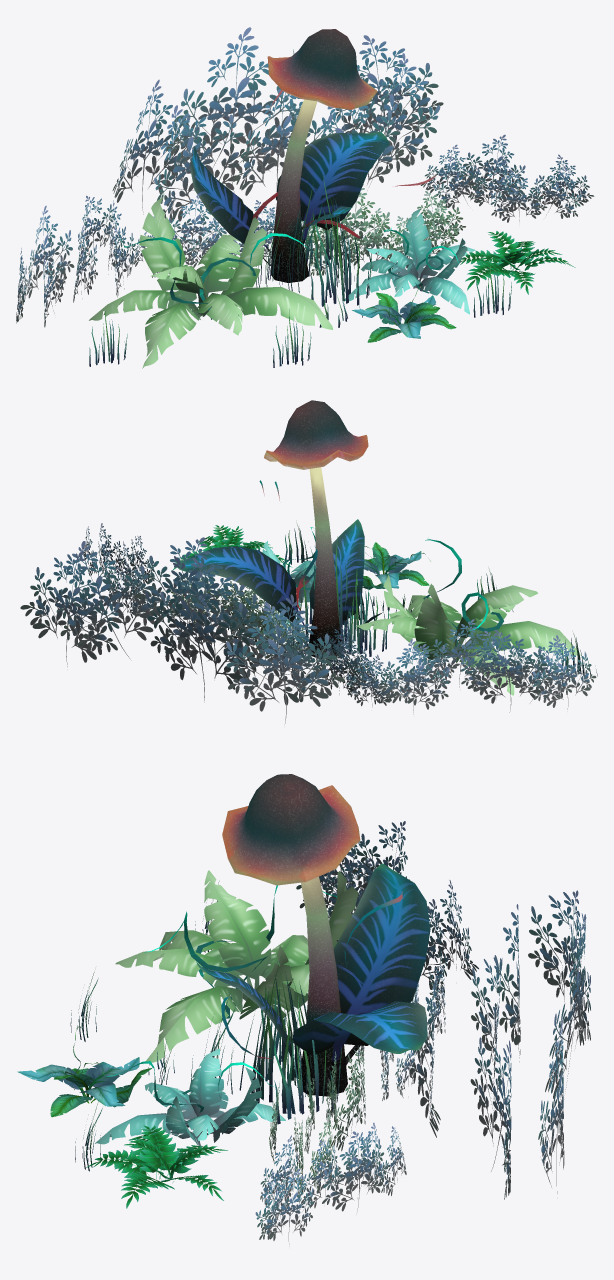
File: fantasy plant.glb
3 views of the same model, one above another, from view 1: azimuth 30°, elevation 25°; view 2: azimuth 150°, elevation 25°; view 3: azimuth 270°, elevation 25° (orthographic). The views are drawn at different scales.
Parts seen in each view (by area): view 1: pCylinder2, Mesh_BushMisc_08, Mesh_FernBlue_02, Mesh_BushMisc_07, Mesh_FernBlue_01, Mesh_BushMisc_06, Mesh_BushMisc_04, Herb_S, Mesh_Fern_01, Mesh_Fern_02, Mesh_BushMisc_02, Herb_M1 (+2 smaller); view 2: Mesh_BushMisc_08, pCylinder2, Mesh_BushMisc_06, Mesh_FernBlue_02, Mesh_BushMisc_02, Herb_S, Mesh_BushMisc_07, Mesh_BushMisc_04, Mesh_Fern_02, Mesh_Fern_01, Mesh_FernBlue_01; view 3: pCylinder2, Mesh_FernBlue_02, Mesh_BushMisc_08, Mesh_FernBlue_01, Mesh_BushMisc_07, Herb_S, Mesh_BushMisc_06, Mesh_Fern_01, Mesh_BushMisc_04, Mesh_Fern_02, Mesh_BushMisc_02.
Boxes of the visible parts, x1,y1,x2,y2 form: pCylinder2: (190, 29, 440, 282); Mesh_BushMisc_08: (112, 27, 443, 222); Mesh_FernBlue_02: (89, 194, 332, 368); Mesh_BushMisc_07: (420, 134, 594, 222); Mesh_FernBlue_01: (345, 209, 475, 314); Mesh_BushMisc_06: (16, 195, 135, 327); Mesh_BushMisc_04: (301, 184, 465, 276); Herb_S: (256, 174, 371, 306); Mesh_Fern_01: (460, 231, 575, 294); Mesh_Fern_02: (352, 287, 456, 342); Mesh_BushMisc_02: (131, 195, 275, 277); Herb_M1: (273, 309, 311, 367); Mesh_BushMisc_08: (20, 537, 344, 724); pCylinder2: (178, 400, 382, 658); Mesh_BushMisc_06: (378, 619, 596, 714); Mesh_FernBlue_02: (355, 539, 580, 695); Mesh_BushMisc_02: (270, 626, 396, 707); Herb_S: (279, 536, 388, 656); Mesh_BushMisc_07: (83, 523, 154, 618); Mesh_BushMisc_04: (165, 576, 309, 660); Mesh_Fern_02: (362, 542, 430, 589); Mesh_Fern_01: (172, 525, 292, 570); Mesh_FernBlue_01: (258, 527, 353, 624); pCylinder2: (196, 774, 430, 1096); Mesh_FernBlue_02: (115, 870, 358, 1062); Mesh_BushMisc_08: (409, 890, 590, 1199); Mesh_FernBlue_01: (95, 1048, 285, 1145); Mesh_BushMisc_07: (255, 1122, 406, 1246); Herb_S: (191, 956, 341, 1124); Mesh_BushMisc_06: (296, 821, 478, 992); Mesh_Fern_01: (86, 1125, 227, 1208); Mesh_BushMisc_04: (269, 1048, 365, 1197); Mesh_Fern_02: (17, 1026, 152, 1117); Mesh_BushMisc_02: (357, 966, 445, 1100).
Size of what is drawn, in the model's own units: 2.99 by 1.4 by 2.04.
Materials: 3 (3 with a texture image).
